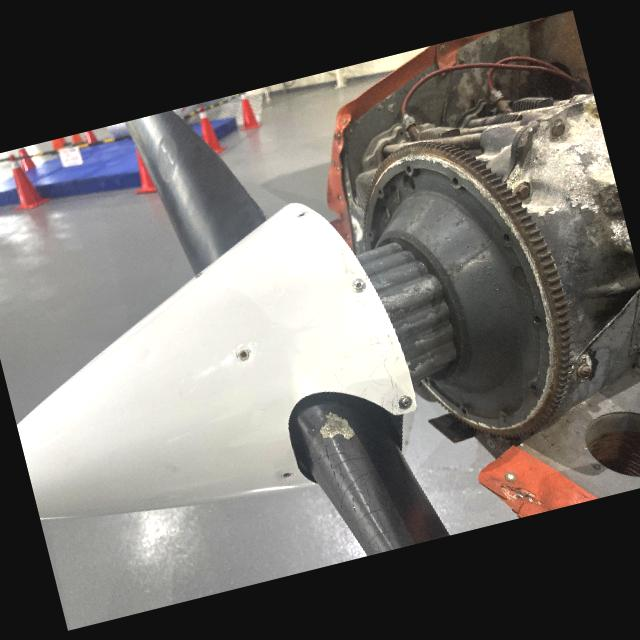Missing Fastener: (276, 468, 295, 484), (293, 206, 308, 222)
